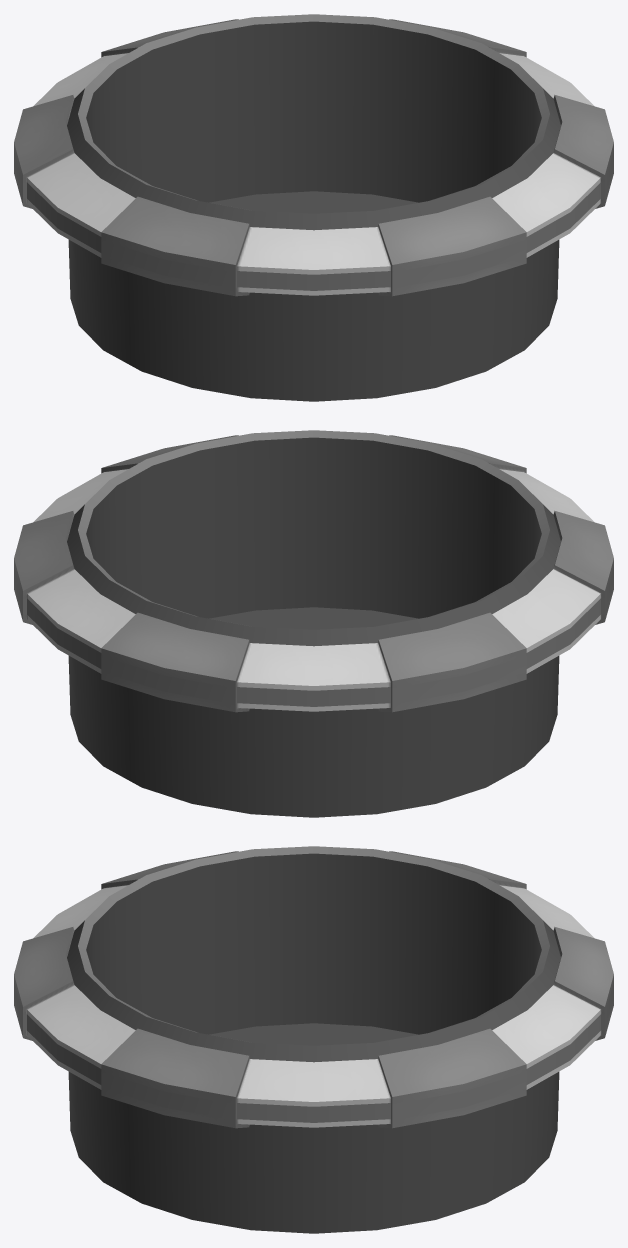
The model's file is Catcher.fbx.
3 views of the same model, one above another, from view 1: azimuth 30°, elevation 25°; view 2: azimuth 150°, elevation 25°; view 3: azimuth 270°, elevation 25° (orthographic).
Visible parts, largest first — view 1: Catcher; view 2: Catcher; view 3: Catcher.
Part boxes in pixels (x1,y1,x2,y2): Catcher: (14, 14, 613, 401); Catcher: (14, 430, 613, 817); Catcher: (14, 846, 613, 1233).
Bounding box in the file's own units: 292 × 100 × 296.
